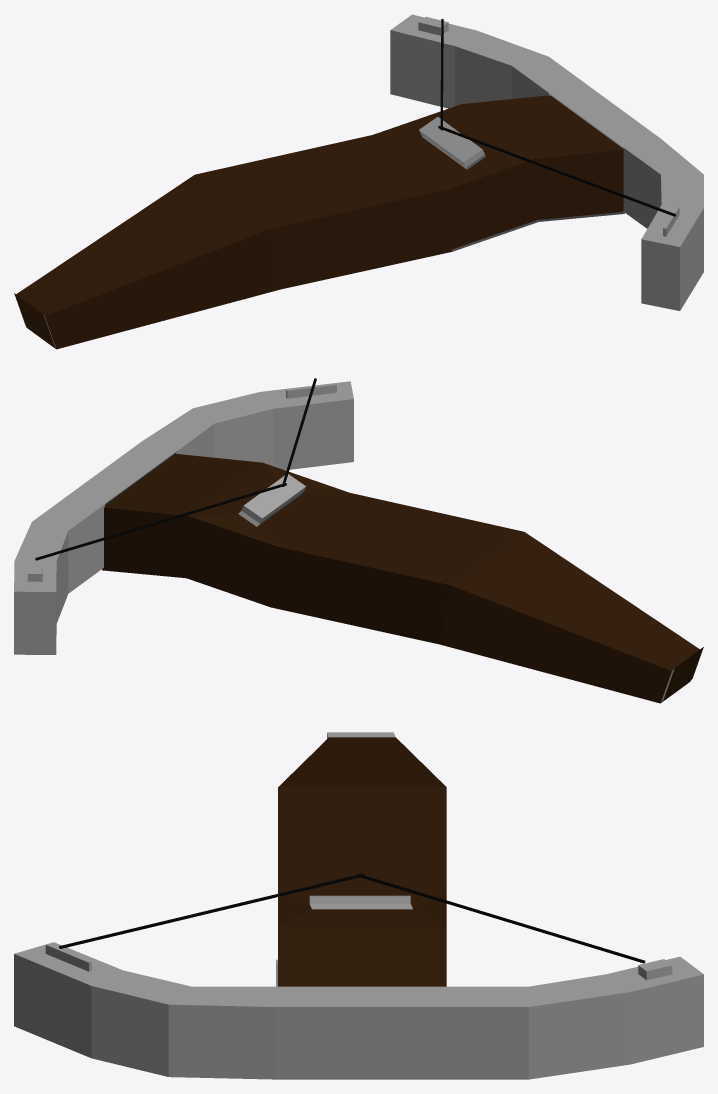
The model's file is crossbow.fbx.
3 views of the same model, one above another, from view 1: azimuth 30°, elevation 25°; view 2: azimuth 150°, elevation 25°; view 3: azimuth 270°, elevation 25° (orthographic). The views are drawn at different scales.
Parts seen in each view (by area): view 1: Crossbow, Cube.002; view 2: Crossbow, Cube.001; view 3: Crossbow, Cube.002, Cube.001.
Boxes of the visible parts, left/top/right/bottom form: Crossbow: left=14, top=14, right=703, bottom=349; Cube.002: left=438, top=125, right=675, bottom=216; Crossbow: left=14, top=381, right=703, bottom=703; Cube.001: left=35, top=483, right=286, bottom=560; Crossbow: left=14, top=732, right=703, bottom=1079; Cube.002: left=59, top=873, right=364, bottom=948; Cube.001: left=357, top=873, right=645, bottom=963.
Bounding box in the file's own units: 294 × 54.24 × 261.
